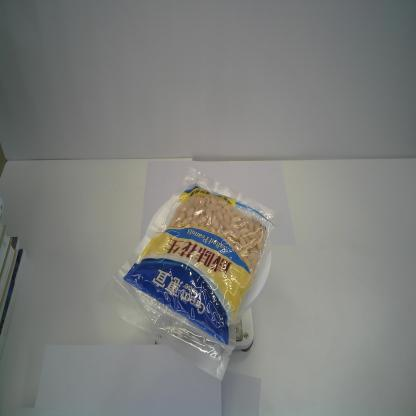Dried Fruit: (100, 165, 287, 383)
